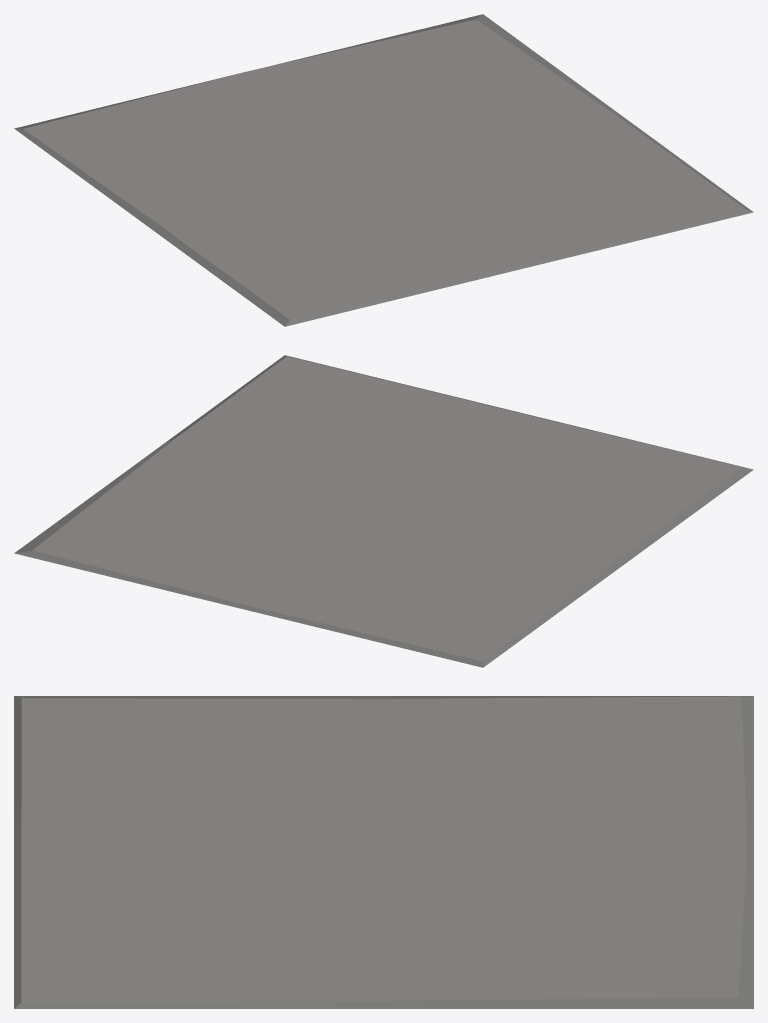
The model's file is SM_Gen_Env_Sidewalk_01.fbx.
3 views of the same model, one above another, from view 1: azimuth 30°, elevation 25°; view 2: azimuth 150°, elevation 25°; view 3: azimuth 270°, elevation 25° (orthographic). The views are drawn at different scales.
Parts seen in each view (by area): view 1: SM_Gen_Env_Sidewalk_01; view 2: SM_Gen_Env_Sidewalk_01; view 3: SM_Gen_Env_Sidewalk_01.
Boxes of the visible parts, box(x1,y1,x2,y2) form: SM_Gen_Env_Sidewalk_01: box(14, 14, 753, 326); SM_Gen_Env_Sidewalk_01: box(14, 355, 753, 667); SM_Gen_Env_Sidewalk_01: box(14, 696, 753, 1008).
Bounding box in the file's own units: 250 × 1.31 × 250.
